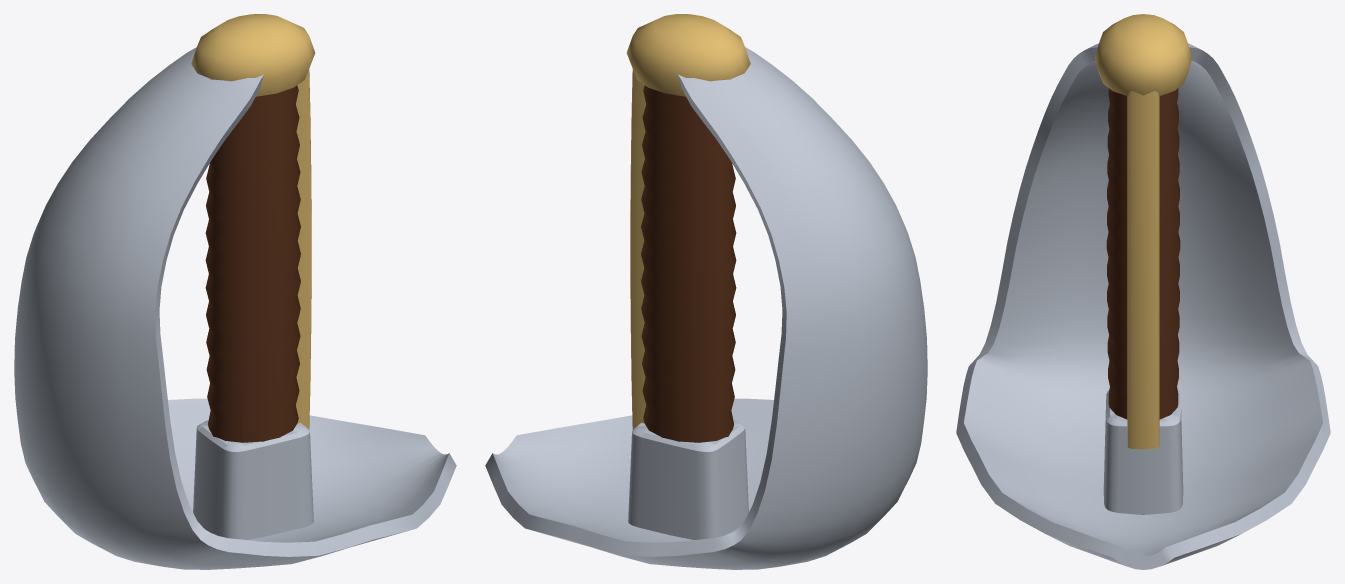
The model's file is CutlassHiltGame.fbx.
3 renders of one model, left to right at view 1: azimuth 30°, elevation 25°; view 2: azimuth 150°, elevation 25°; view 3: azimuth 270°, elevation 25°, orthographic. The views are drawn at different scales.
Parts seen in each view (by area): view 1: Guard, Grip, Pommel; view 2: Guard, Grip, Pommel; view 3: Guard, Pommel, Grip.
Part boxes in pixels (<box>): Guard: <box>14,47,456,569</box>; Grip: <box>205,85,300,442</box>; Pommel: <box>191,14,315,429</box>; Guard: <box>485,47,927,569</box>; Grip: <box>641,85,736,442</box>; Pommel: <box>626,14,750,429</box>; Guard: <box>956,43,1330,569</box>; Pommel: <box>1095,14,1191,449</box>; Grip: <box>1106,88,1180,419</box>.
Bounding box in the file's own units: 0.7017 × 0.852 × 0.5994.
